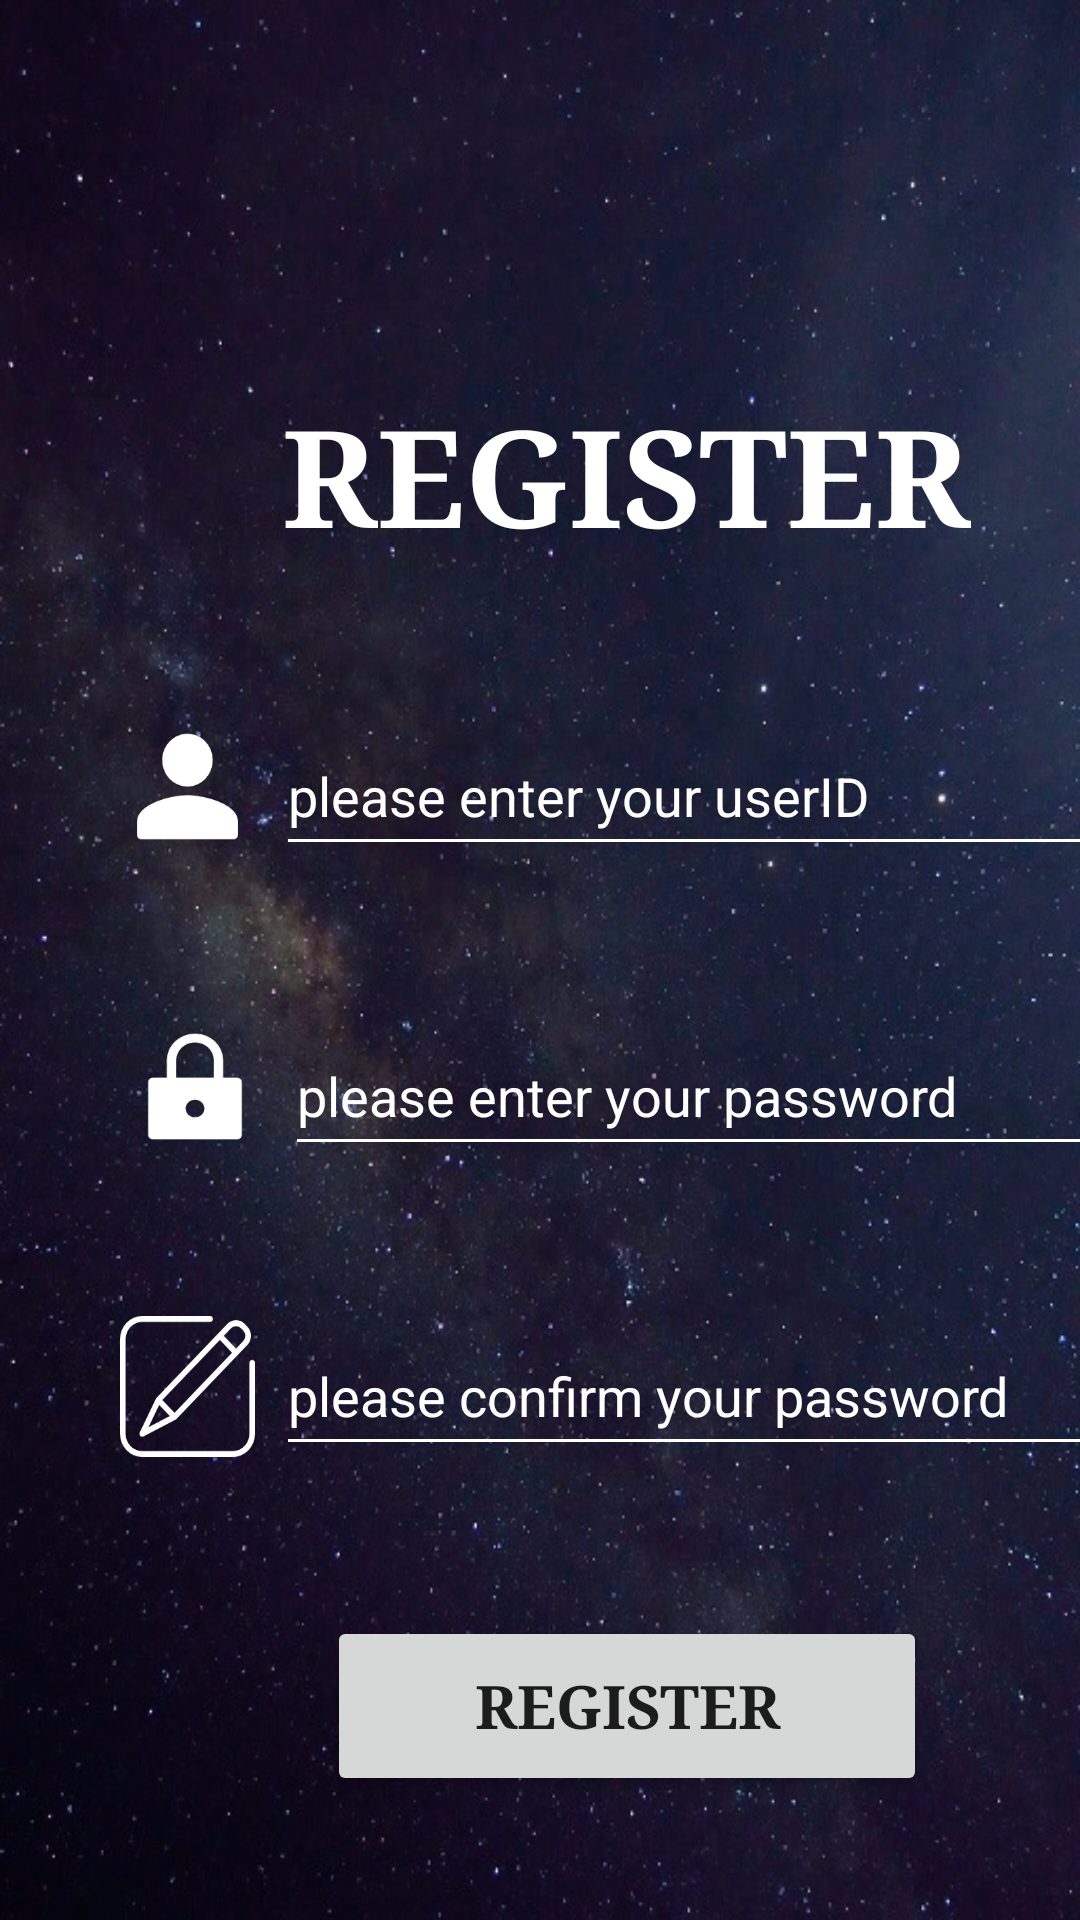

Named icons in this screenshot (1080w x 1920h) and their centers, (x=x, y=y):
lock: (x=198, y=1086)
person: (x=189, y=786)
